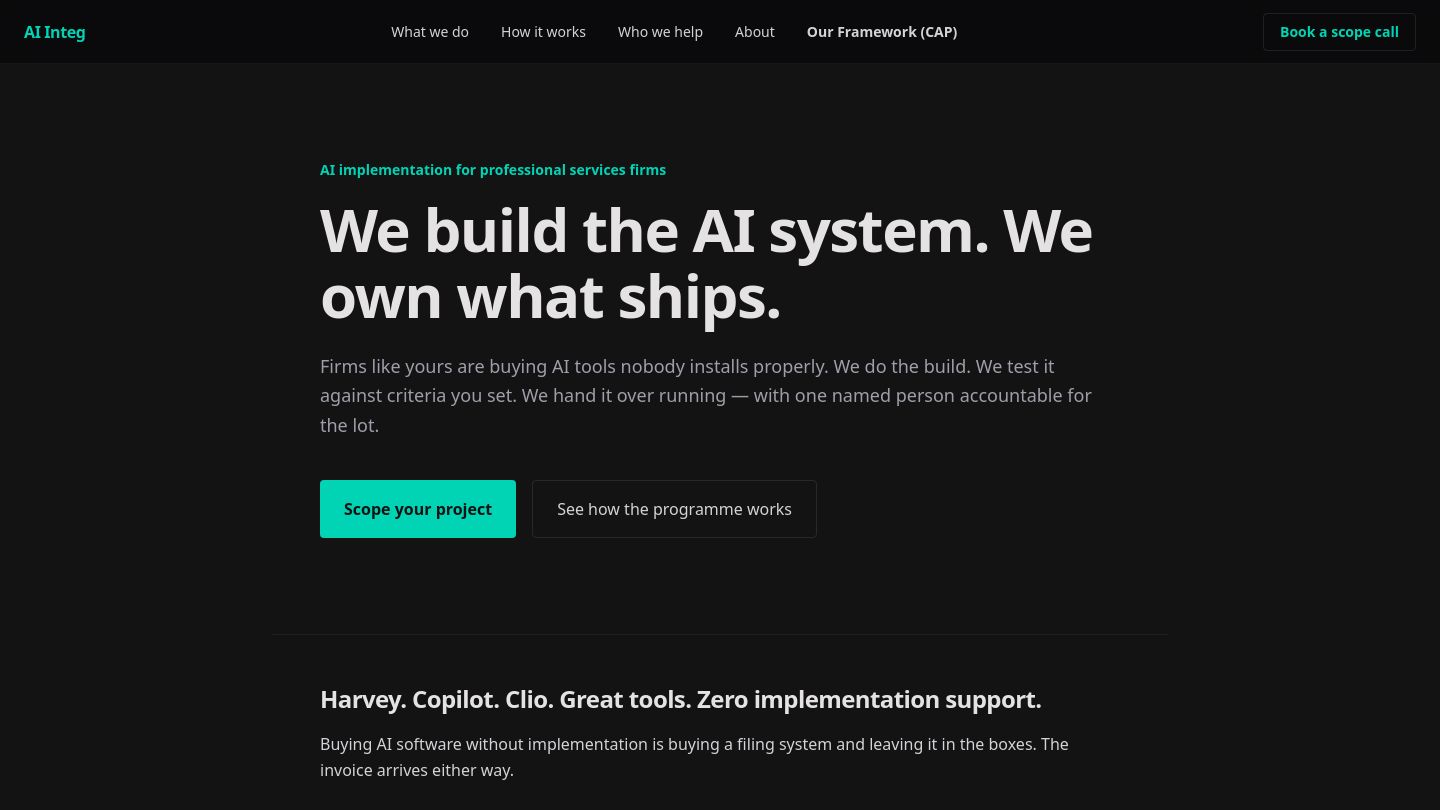
App › modal form uses plain labels with no terminal prefixes
This screenshot has width=1440, height=810.
Click the button "Scope your project".
click(418, 509)  # box [320, 480, 516, 538]
(page scrolled)
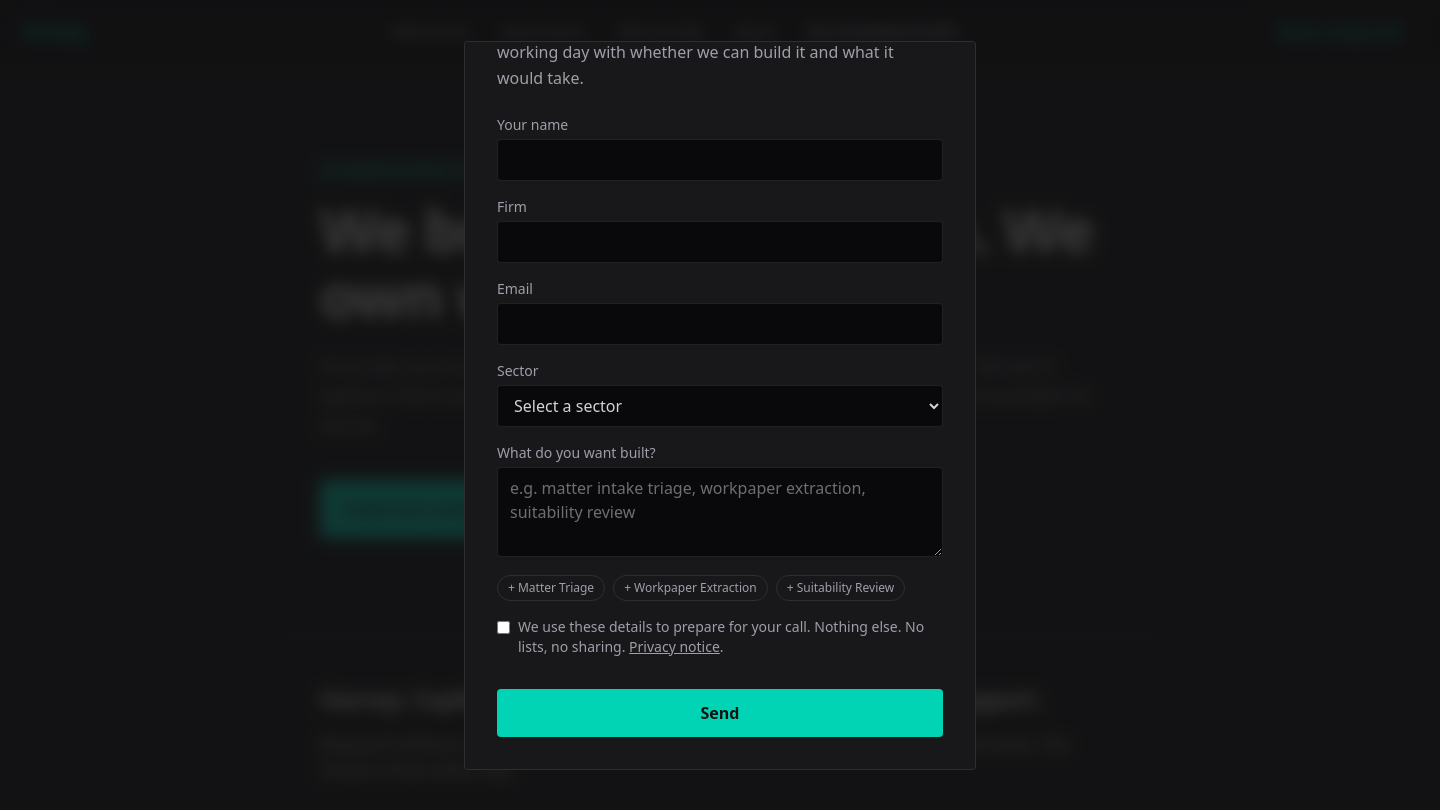
Expected: the dropdown labelled "Sector" is shown, [497, 384, 943, 426]
Expected: the text box labelled "What do you want built?" is shown, [497, 466, 943, 556]
Expected: the button "Send" is shown, [497, 688, 943, 736]
